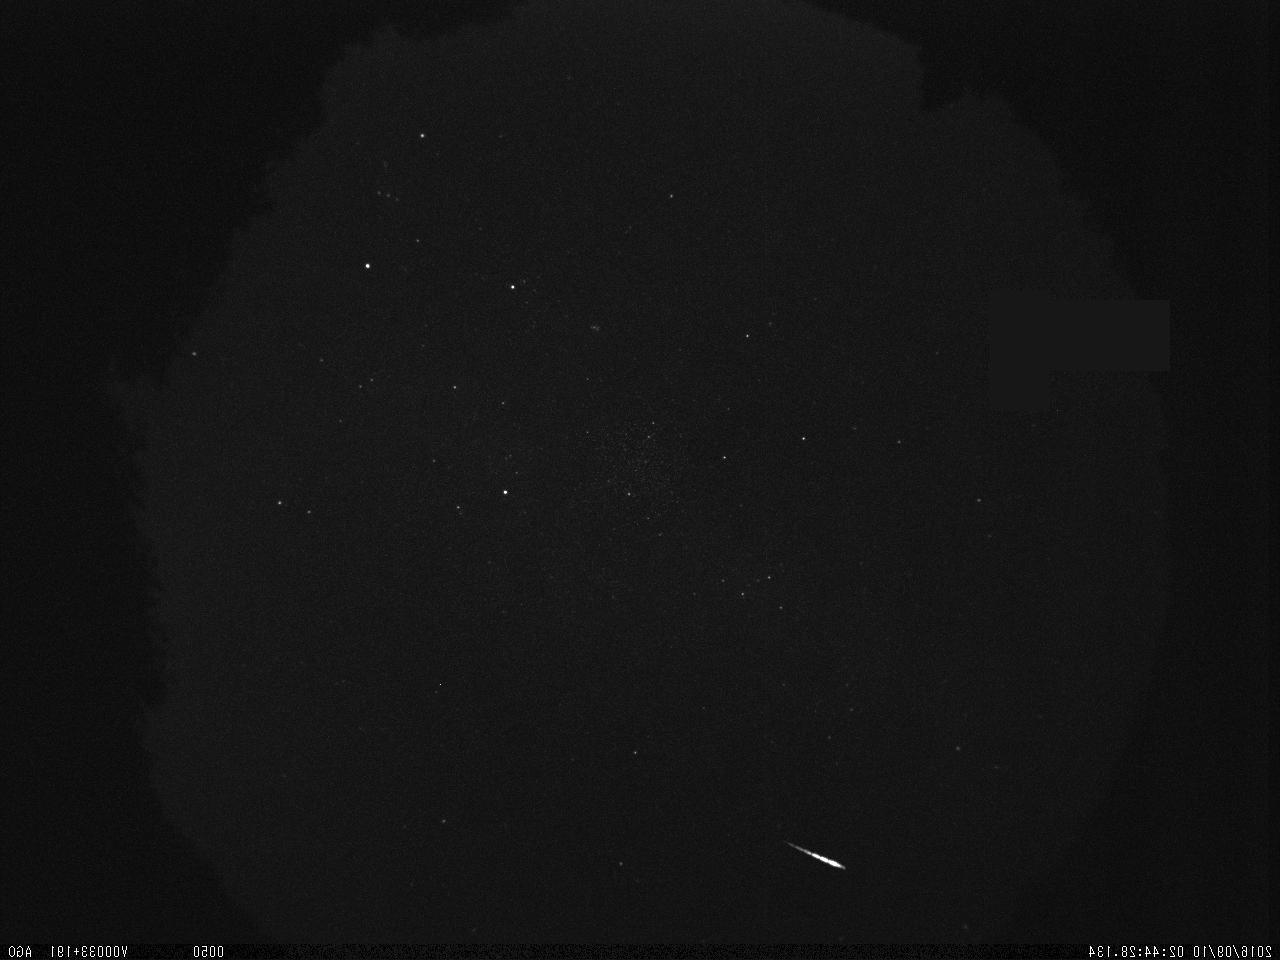meteor: (791, 809, 853, 901)
